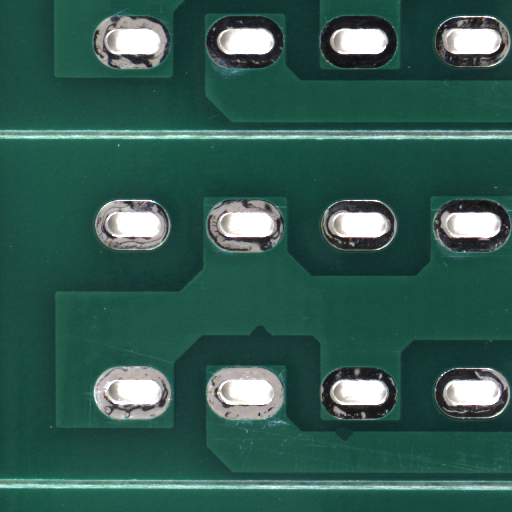Mouse_bite: (260, 331, 281, 344), (344, 435, 362, 449)
